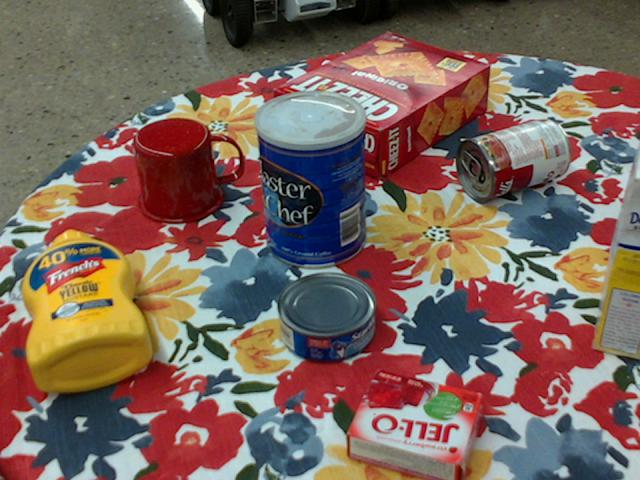cracker_box: (276, 34, 492, 180)
gelatin_box: (348, 371, 488, 479)
large_marker: (635, 152, 639, 167)
master_chef_can: (254, 89, 366, 268)
mug: (133, 117, 242, 224)
mustard_bottle: (22, 230, 152, 391)
sugar_box: (594, 155, 639, 360)
tomato_soup_can: (457, 116, 571, 201)
tuna_fish_can: (277, 273, 376, 363)
